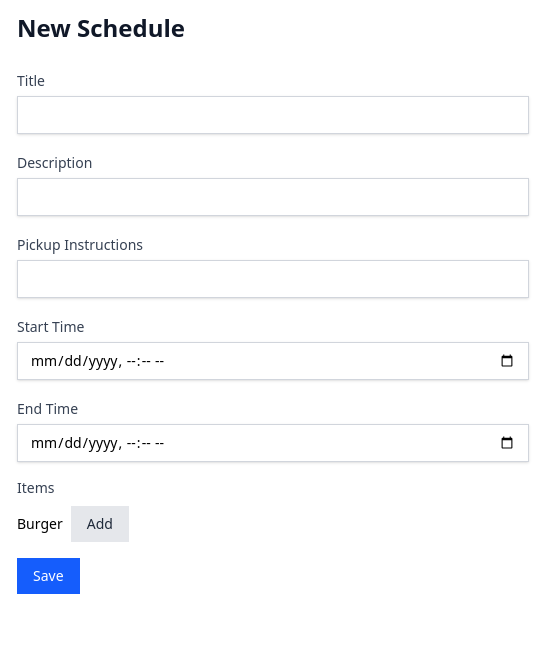
Test: ScheduleForm › validates endTime must be after startTime
In the field labelled "Title": (273,115) [17,96,529,134], type "Lunch"
In the field labelled "Description": (273,197) [17,178,529,216], type "Lunch menu"
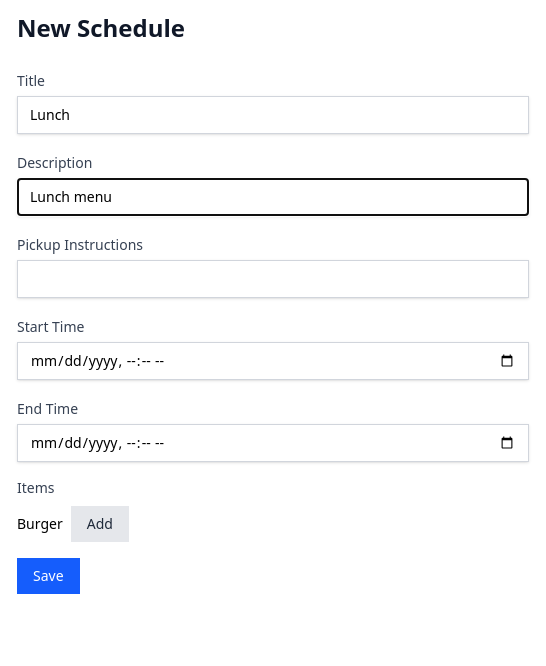
In the field labelled "Pickup Instructions": (273,279) [17,260,529,298], type "Front desk"
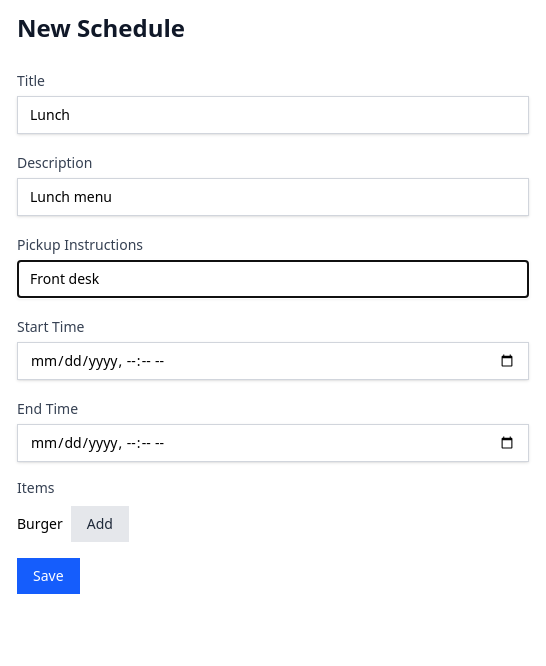
In the field labelled "Start Time": (273,361) [17,342,529,380], type "2026-03-01T14:00"
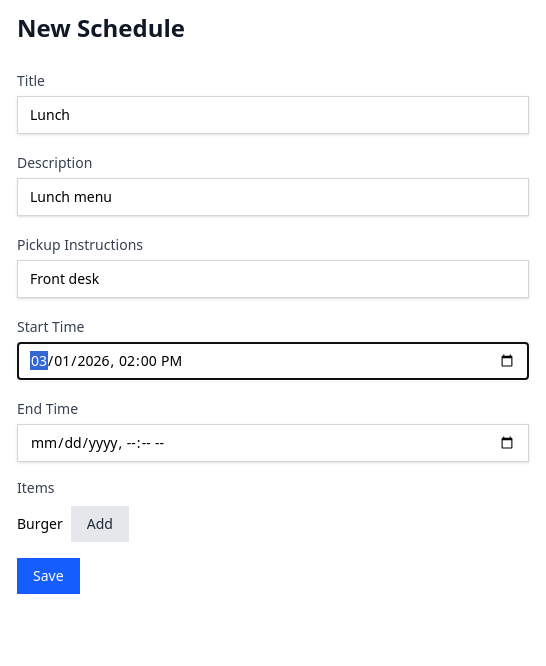
In the field labelled "End Time": (273,443) [17,424,529,462], type "2026-03-01T12:00"
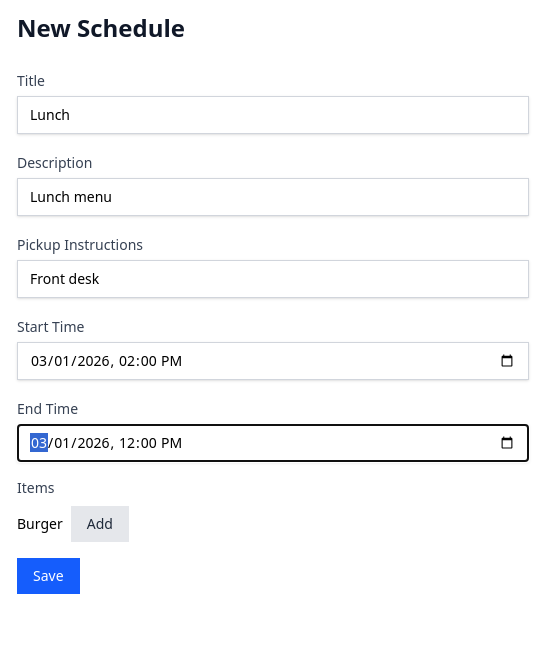
// Add an item so that validation focuses on the time issue
Click the button "Add": (100,524) [71,506,129,542]
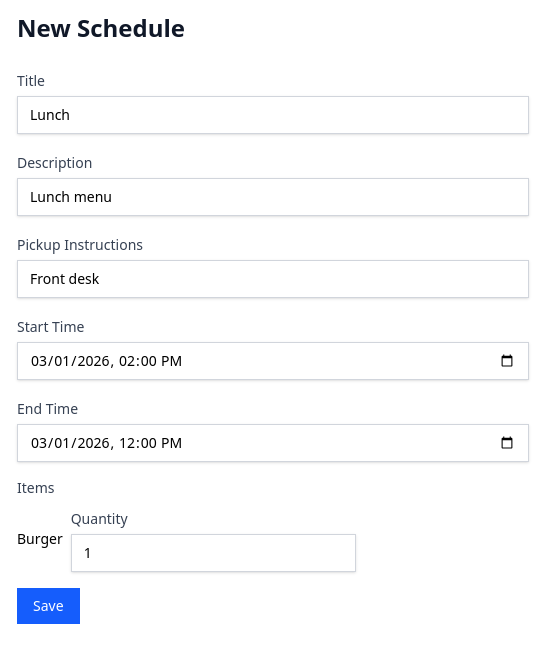
Click the button "Save": (48,606) [17,588,80,624]
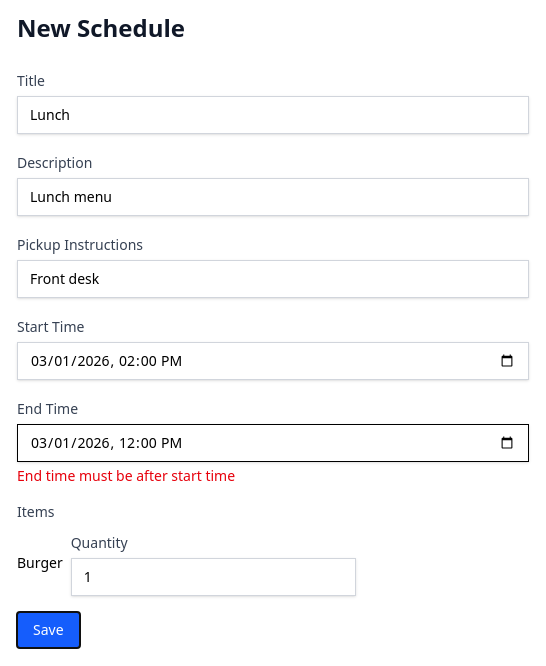
Expected: the text "End time must be after start time" is shown, [17,466,235,485]
